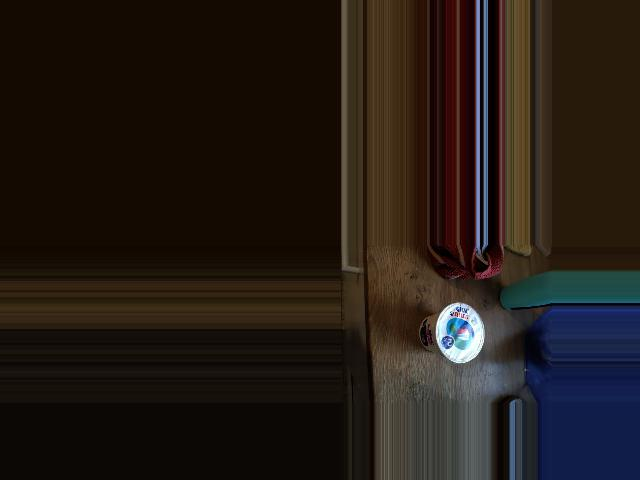cotage: (416, 306, 487, 359)
